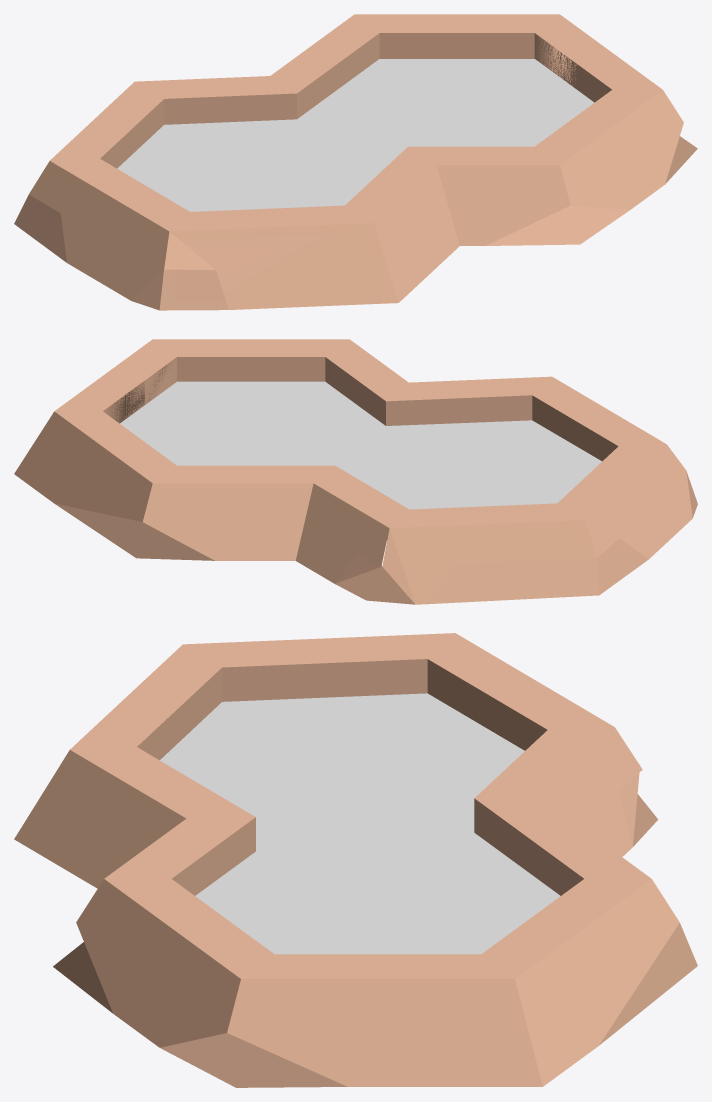
The model's file is pond.fbx.
The picture shows the model from 3 angles, top to bottom: view 1: azimuth 30°, elevation 25°; view 2: azimuth 150°, elevation 25°; view 3: azimuth 270°, elevation 25°; orthographic projection. The views are drawn at different scales.
Parts seen in each view (by area): view 1: platform_grass, Plane; view 2: platform_grass, Plane; view 3: platform_grass, Plane.
Part boxes in pixels (x1,y1,x2,y2): platform_grass: (14,14,697,310); Plane: (117,59,594,211); platform_grass: (14,339,697,604); Plane: (120,381,601,509); platform_grass: (14,633,697,1087); Plane: (160,693,560,954).
Bounding box in the file's own units: 77.77 × 8.25 × 58.57.
